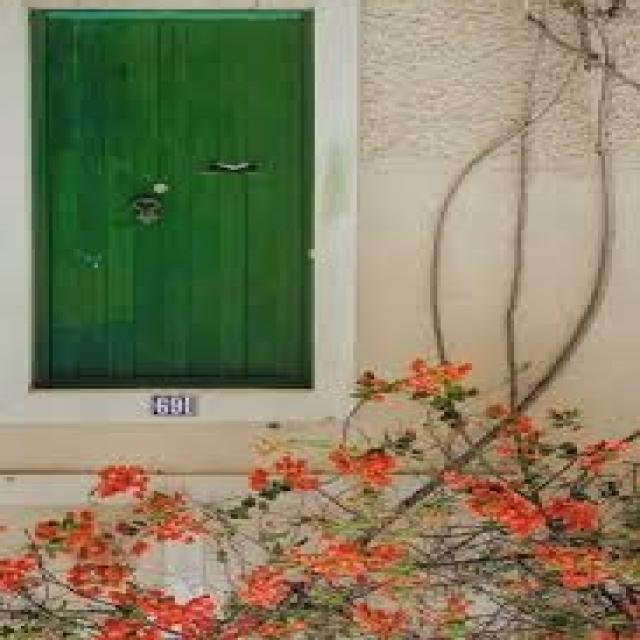door: (30, 10, 316, 390)
